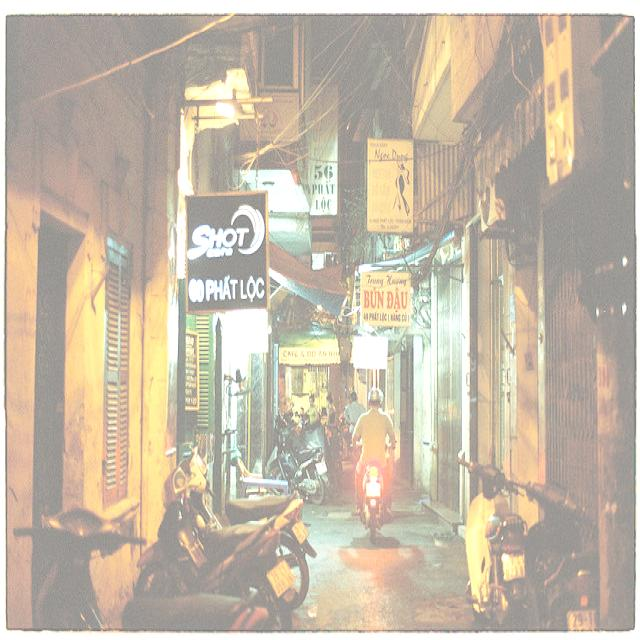Motorbike: (11, 506, 268, 640), (136, 467, 296, 609), (187, 453, 316, 608), (501, 464, 598, 640), (458, 458, 538, 640), (346, 400, 403, 545)
